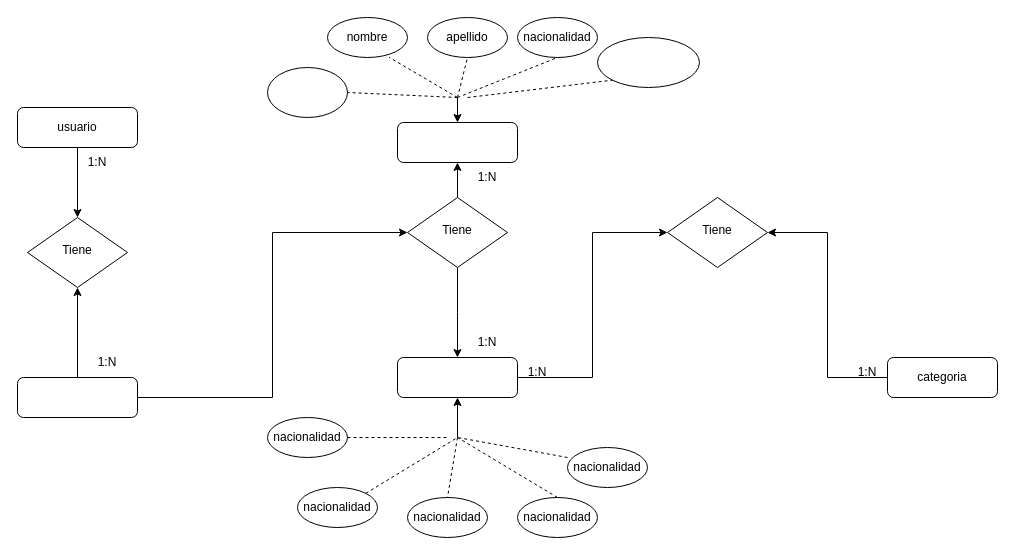
This 1015x555 diagram has some shape labels left out. The box of each missing label's shape, as (x1, y1, x2, y2) in pixels:
autor: (396, 122, 518, 162)
feacha_nacimiento: (596, 36, 700, 88)
id_autor: (266, 66, 348, 118)
libro: (396, 356, 518, 398)
prestamo: (16, 376, 138, 418)
